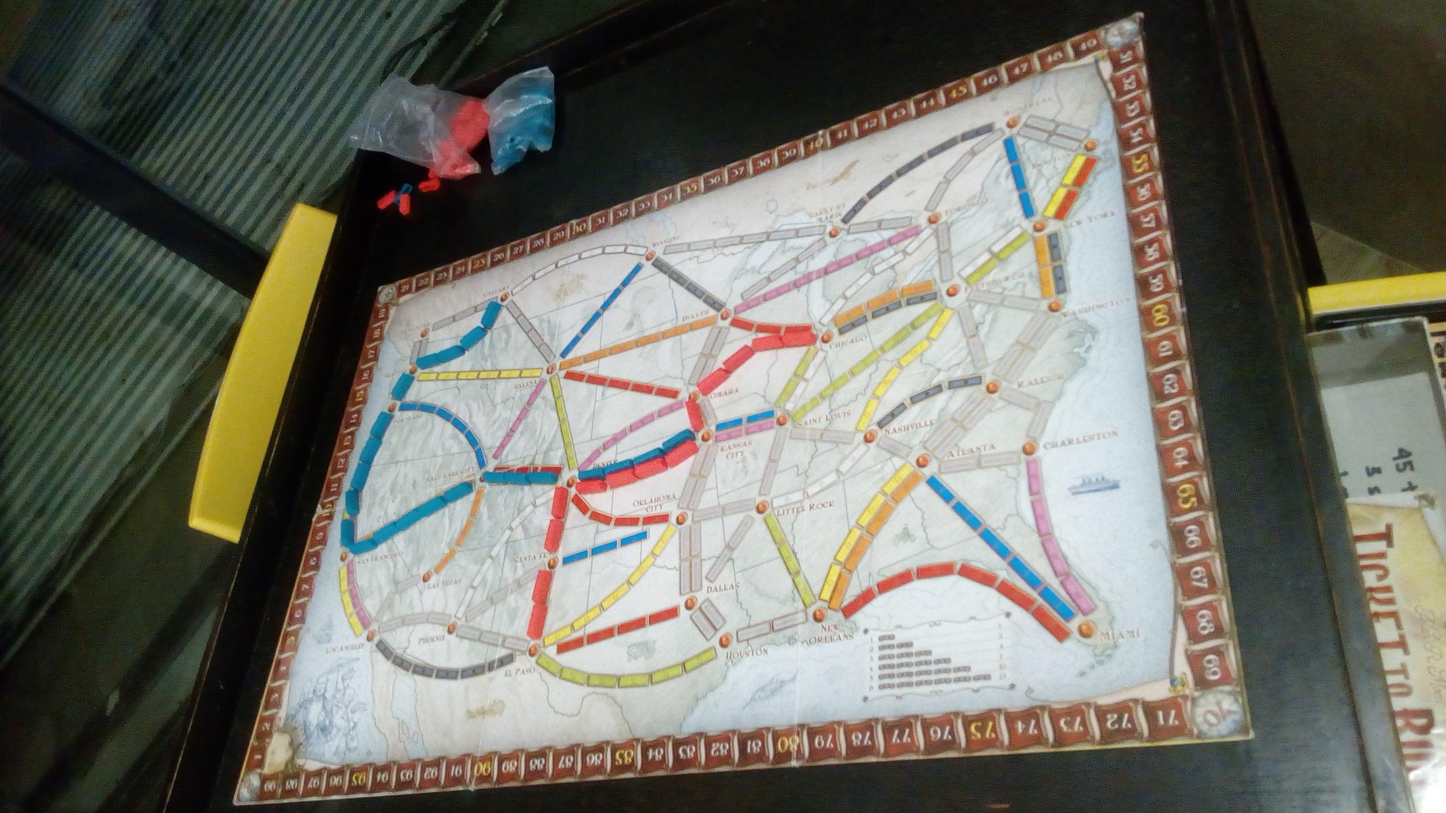blue_train: (418, 494, 449, 518), (661, 430, 694, 451), (372, 522, 400, 545), (360, 434, 382, 463), (392, 373, 415, 400), (442, 482, 473, 502), (395, 509, 423, 531), (460, 326, 485, 350), (632, 448, 663, 467), (481, 301, 502, 329), (437, 344, 465, 364), (370, 413, 392, 438), (352, 460, 369, 491), (350, 538, 378, 555), (341, 518, 355, 550), (416, 353, 442, 370), (604, 459, 632, 474), (527, 472, 560, 484), (345, 489, 359, 515), (578, 468, 605, 481), (505, 473, 531, 486), (483, 472, 506, 484)
red_train: (665, 440, 698, 466), (699, 368, 730, 395), (723, 345, 754, 372), (633, 457, 667, 479), (527, 603, 547, 638), (606, 467, 638, 488), (532, 569, 552, 602), (685, 400, 704, 432), (545, 519, 563, 552), (750, 336, 783, 353), (783, 330, 816, 347), (551, 487, 568, 519), (577, 480, 607, 494)
